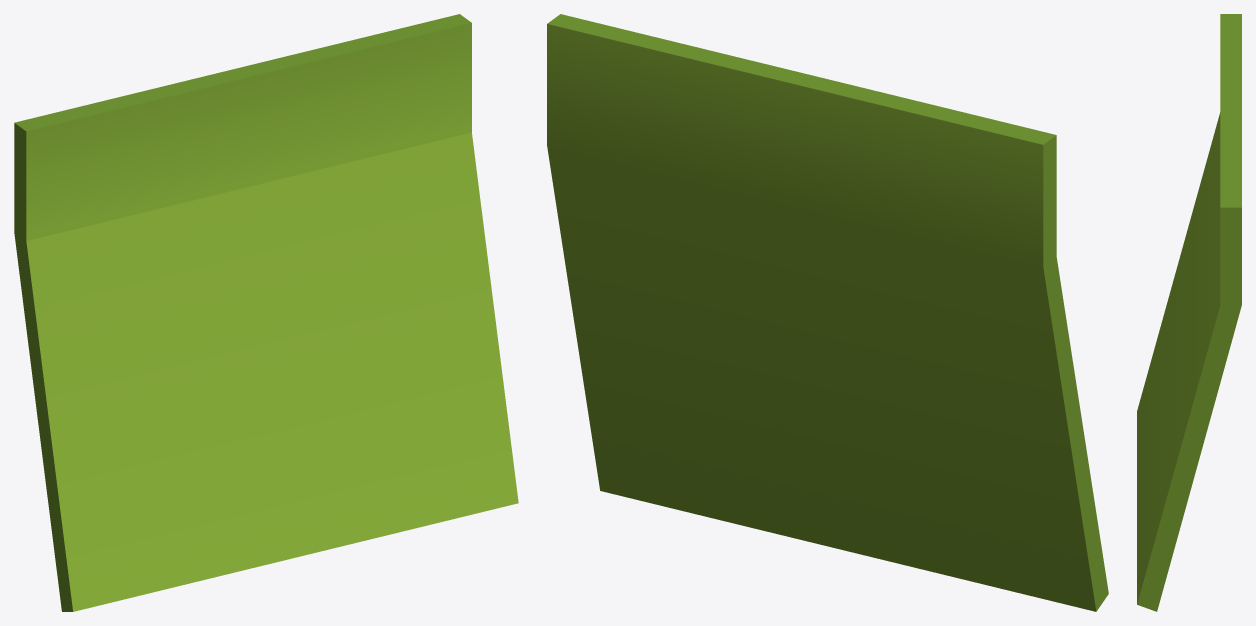
Rendered from SO_StickyNote_02.fbx.
3 views of the same model, side by side, from view 1: azimuth 30°, elevation 25°; view 2: azimuth 150°, elevation 25°; view 3: azimuth 270°, elevation 25° (orthographic). The views are drawn at different scales.
Visible parts, largest first — view 1: SO_StickyNote_02; view 2: SO_StickyNote_02; view 3: SO_StickyNote_02.
Part boxes in pixels (box(x1,y1,x2,y2)): SO_StickyNote_02: box(14, 14, 518, 611); SO_StickyNote_02: box(547, 14, 1108, 611); SO_StickyNote_02: box(1137, 14, 1241, 611).
Size of the model in its own units: 0.195 by 0.19 by 0.0446.
